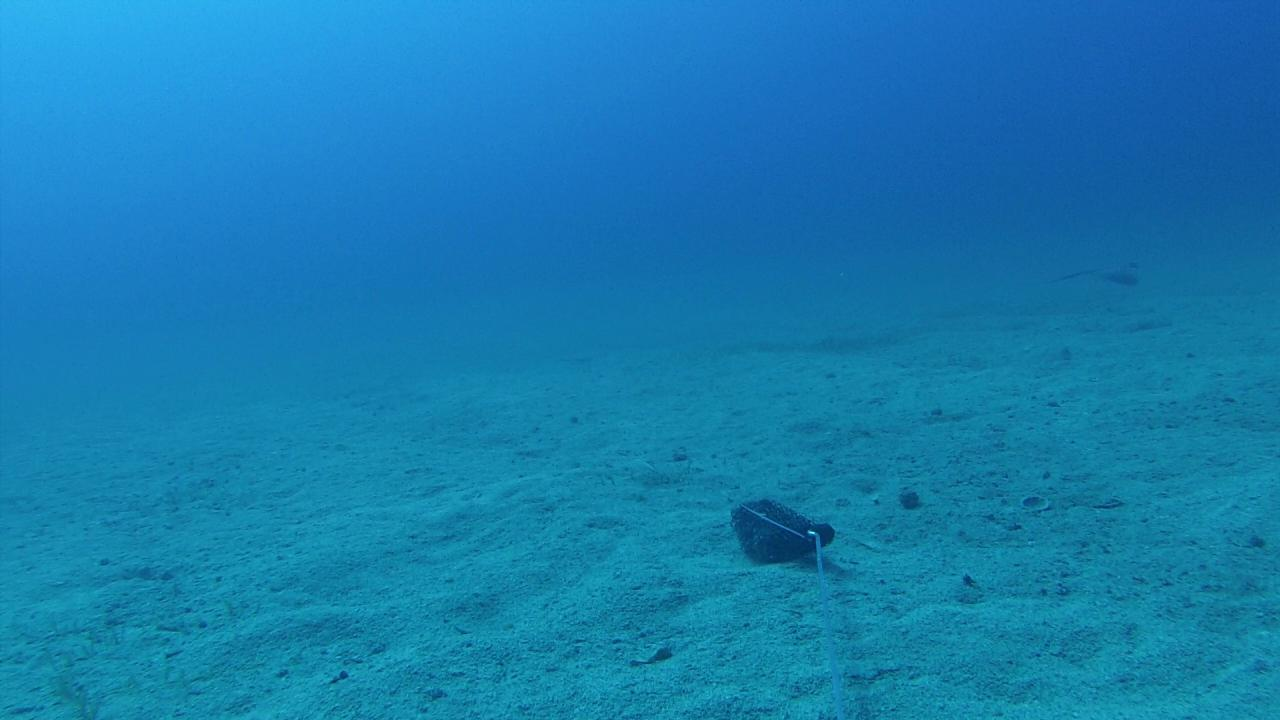dasyatis: (1060, 262, 1140, 286)
